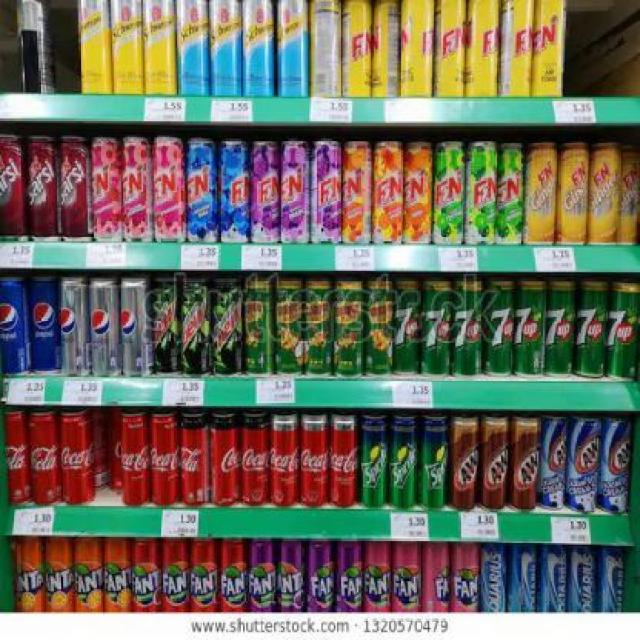Drinks: (59, 408, 96, 509), (574, 277, 608, 378), (119, 275, 152, 377), (608, 280, 640, 385), (208, 407, 240, 510), (451, 276, 483, 378), (88, 275, 120, 377), (29, 408, 60, 509), (27, 274, 58, 374), (484, 276, 514, 378), (546, 278, 576, 379), (516, 278, 546, 379), (241, 408, 270, 510), (58, 277, 88, 375), (0, 278, 29, 378), (389, 410, 418, 510), (150, 408, 179, 508), (120, 410, 149, 510), (180, 407, 208, 510), (422, 278, 451, 377), (419, 412, 448, 510), (360, 410, 389, 508), (329, 411, 358, 509), (300, 412, 329, 510), (270, 411, 299, 509), (394, 278, 421, 376), (4, 408, 30, 509), (44, 537, 74, 614), (14, 537, 44, 614), (132, 538, 162, 613), (161, 538, 190, 614), (336, 539, 366, 612), (190, 538, 219, 613), (104, 538, 133, 613), (74, 538, 103, 613), (220, 538, 248, 614), (278, 539, 307, 612), (308, 540, 337, 612), (250, 539, 278, 612), (450, 542, 479, 612), (422, 541, 449, 614), (365, 542, 393, 612), (394, 542, 421, 612)
